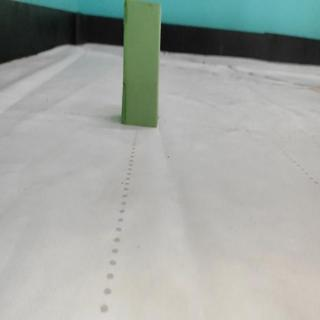greenbox: (121, 0, 161, 125)
